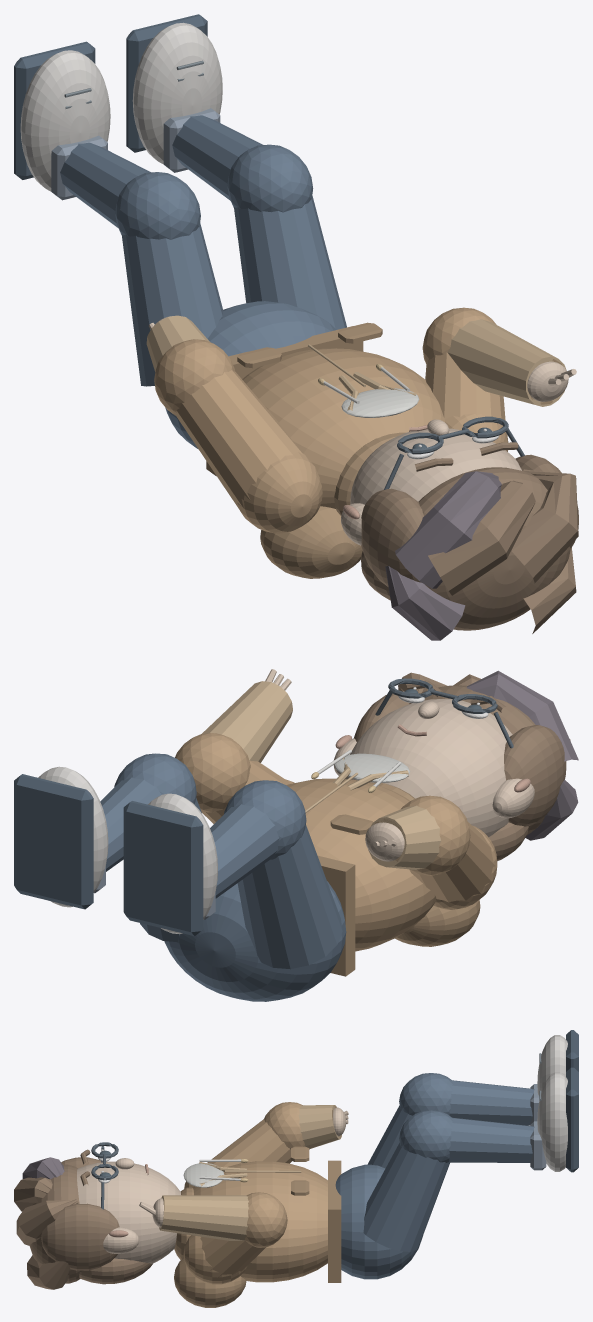
Rendered from growth_alert_0.glb.
3 views of the same model, one above another, from view 1: azimuth 30°, elevation 25°; view 2: azimuth 150°, elevation 25°; view 3: azimuth 270°, elevation 25° (orthographic). The views are drawn at different scales.
Parts seen in each view (by area): view 1: 0000__hoodie_main_torso, 0065__jeans_thigh, 0046__jeans_thigh, 0057__sleeve_upper, 0050__sneaker, 0069__sneaker, 0022__hair_crown, 0017__face_head, 0026__hair_lock_0, 0078__sleeve_forearm, 0027__hair_lock_1, 0014__pants_pelvis (+22 smaller); view 2: 0017__face_head, 0000__hoodie_main_torso, 0051__rubber_sole, 0046__jeans_thigh, 0070__rubber_sole, 0014__pants_pelvis, 0024__temple_side, 0048__jeans_shin, 0077__elbow_fold, 0078__sleeve_forearm, 0047__knee_fold, 0057__sleeve_upper (+21 smaller); view 3: 0000__hoodie_main_torso, 0065__jeans_thigh, 0017__face_head, 0014__pants_pelvis, 0025__temple_side, 0078__sleeve_forearm, 0067__jeans_shin, 0048__jeans_shin, 0069__sneaker, 0066__knee_fold, 0057__sleeve_upper, 0077__elbow_fold (+21 smaller).
Part boxes in pixels (bbox=[...]): 0000__hoodie_main_torso: bbox=[242, 348, 444, 508]; 0065__jeans_thigh: bbox=[234, 196, 346, 329]; 0046__jeans_thigh: bbox=[121, 222, 223, 386]; 0057__sleeve_upper: bbox=[176, 370, 303, 509]; 0050__sneaker: bbox=[20, 50, 110, 191]; 0069__sneaker: bbox=[132, 22, 222, 164]; 0022__hair_crown: bbox=[418, 467, 570, 630]; 0017__face_head: bbox=[350, 428, 521, 504]; 0026__hair_lock_0: bbox=[395, 471, 501, 588]; 0078__sleeve_forearm: bbox=[447, 319, 566, 406]; 0027__hair_lock_1: bbox=[428, 480, 535, 595]; 0014__pants_pelvis: bbox=[165, 301, 336, 448]; 0017__face_head: bbox=[346, 698, 512, 837]; 0000__hoodie_main_torso: bbox=[286, 778, 436, 951]; 0051__rubber_sole: bbox=[123, 801, 203, 936]; 0046__jeans_thigh: bbox=[237, 825, 342, 969]; 0070__rubber_sole: bbox=[14, 774, 93, 909]; 0014__pants_pelvis: bbox=[164, 881, 346, 1001]; 0024__temple_side: bbox=[504, 725, 566, 826]; 0048__jeans_shin: bbox=[210, 804, 279, 898]; 0077__elbow_fold: bbox=[175, 733, 250, 812]; 0078__sleeve_forearm: bbox=[202, 681, 292, 762]; 0047__knee_fold: bbox=[224, 780, 306, 859]; 0057__sleeve_upper: bbox=[409, 822, 495, 902]; 0000__hoodie_main_torso: bbox=[193, 1161, 327, 1282]; 0065__jeans_thigh: bbox=[363, 1143, 449, 1251]; 0017__face_head: bbox=[77, 1161, 180, 1263]; 0014__pants_pelvis: bbox=[335, 1164, 422, 1279]; 0025__temple_side: bbox=[41, 1203, 119, 1270]; 0078__sleeve_forearm: bbox=[159, 1195, 248, 1240]; 0067__jeans_shin: bbox=[448, 1117, 534, 1162]; 0048__jeans_shin: bbox=[449, 1080, 534, 1125]; 0069__sneaker: bbox=[537, 1072, 567, 1171]; 0066__knee_fold: bbox=[399, 1110, 452, 1162]; 0057__sleeve_upper: bbox=[207, 1119, 291, 1167]; 0077__elbow_fold: bbox=[245, 1192, 287, 1247].
Size of the model in its own units: 0.82 by 0.8228 by 1.85.
